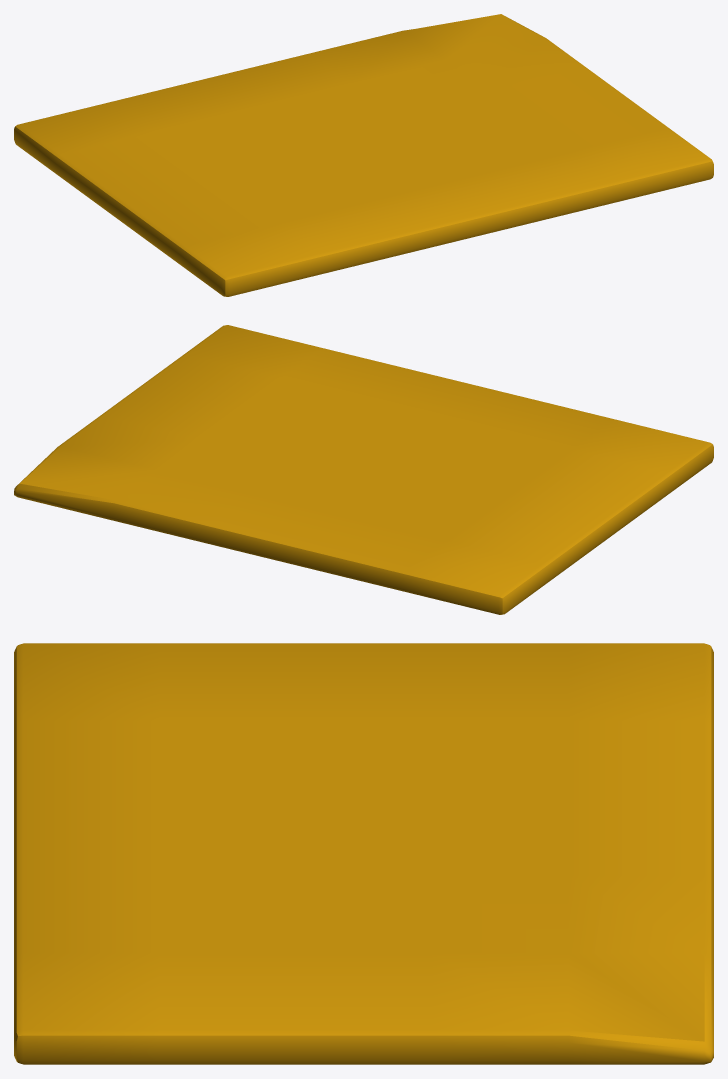
Rendered from CleaningCloth.fbx.
3 renders of one model, top to bottom at view 1: azimuth 30°, elevation 25°; view 2: azimuth 150°, elevation 25°; view 3: azimuth 270°, elevation 25°, orthographic. The views are drawn at different scales.
Parts seen in each view (by area): view 1: CleaningCloth; view 2: CleaningCloth; view 3: CleaningCloth.
Boxes of the visible parts, x1,y1,x2,y2 form: CleaningCloth: [14, 14, 713, 296]; CleaningCloth: [14, 325, 713, 614]; CleaningCloth: [14, 643, 713, 1064].
Size of the model in its own units: 0.2 by 0.008 by 0.15.
